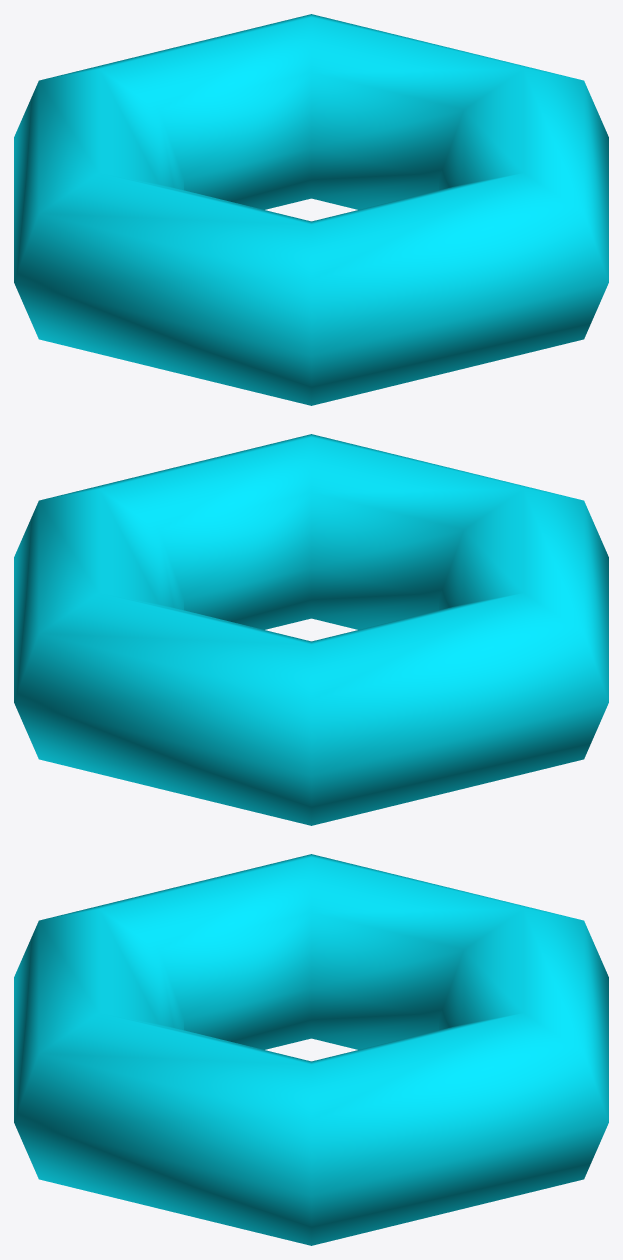
3 renders of one model, top to bottom at view 1: azimuth 30°, elevation 25°; view 2: azimuth 150°, elevation 25°; view 3: azimuth 270°, elevation 25°, orthographic.
Parts seen in each view (by area): view 1: Torus; view 2: Torus; view 3: Torus.
Part boxes in pixels (x1=…): Torus: x1=14, y1=14, x2=608, y2=405; Torus: x1=14, y1=434, x2=608, y2=825; Torus: x1=14, y1=854, x2=608, y2=1245.
Size of the model in its own units: 0.56 by 0.16 by 0.485.
